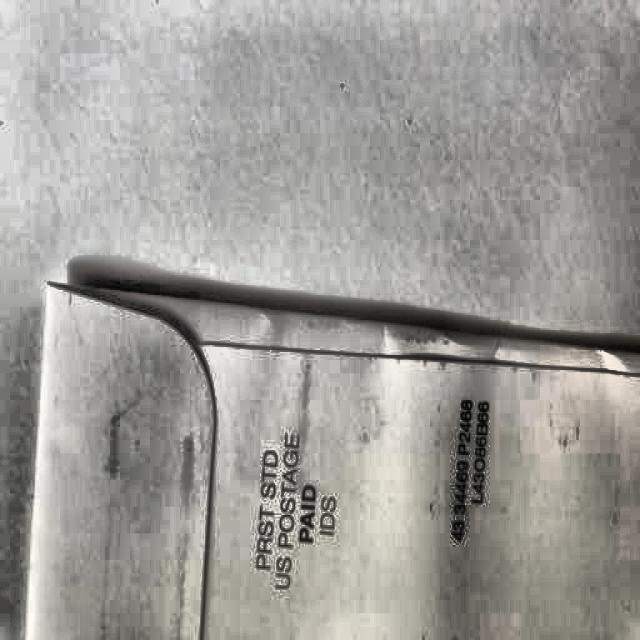paper: (3, 266, 638, 640)
